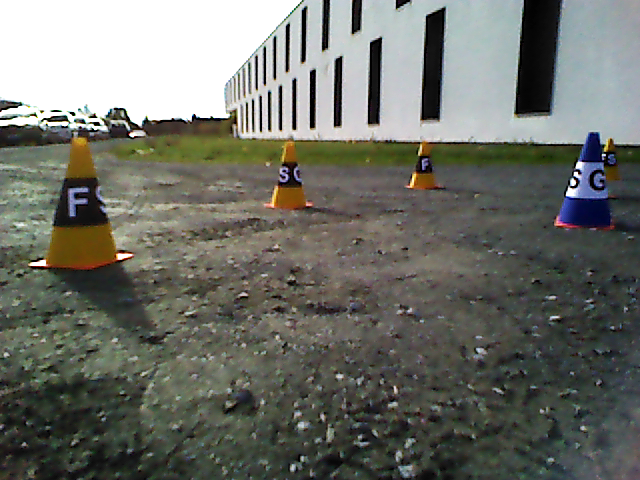bluecone: (560, 133, 611, 223)
yellowcone: (46, 137, 115, 263), (271, 142, 304, 205), (411, 143, 436, 185), (601, 139, 619, 178)
